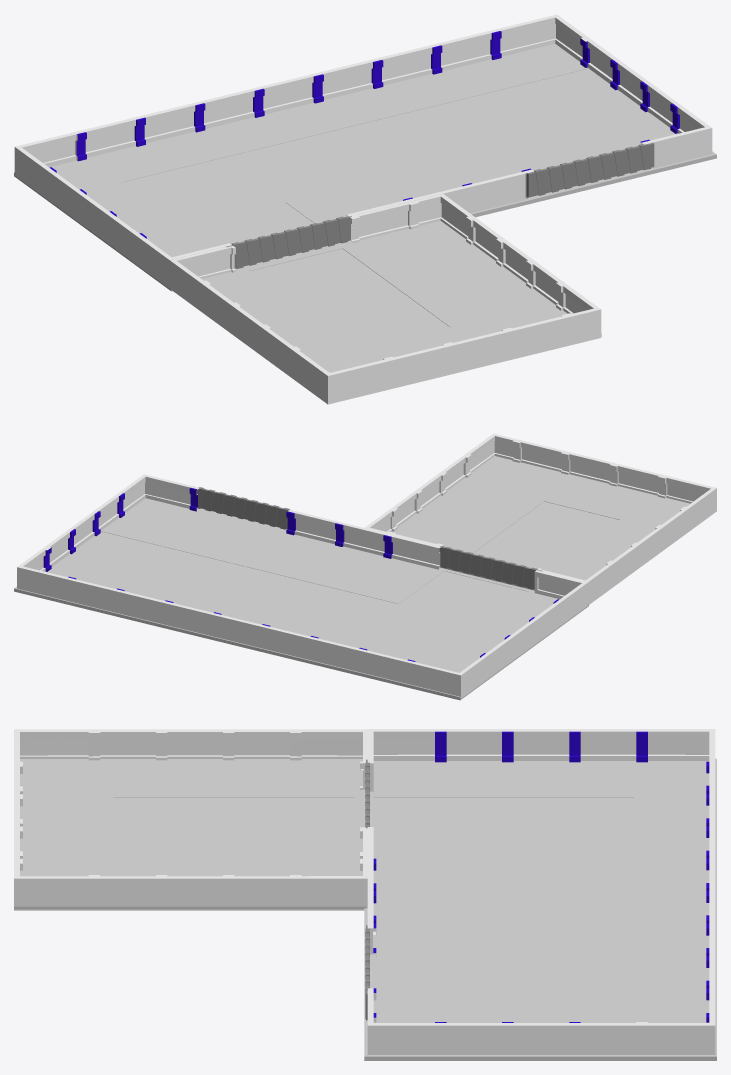
The model's file is Lagerhallen.FBX.
3 renders of one model, top to bottom at view 1: azimuth 30°, elevation 25°; view 2: azimuth 150°, elevation 25°; view 3: azimuth 270°, elevation 25°, orthographic. The views are drawn at different scales.
Visible parts, largest first — view 1: Box187, Box129, Box088, Box090, Box095, Box113; view 2: Box187, Box088, Box129, Box090, Box113, Box095; view 3: Box187, Box129, Box088, Box090.
Boxes of the visible parts, x1=… form: Box187: x1=14, y1=44, x2=716, y2=291; Box129: x1=202, y1=221, x2=601, y2=372; Box088: x1=14, y1=14, x2=712, y2=288; Box090: x1=170, y1=194, x2=601, y2=404; Box095: x1=527, y1=142, x2=654, y2=197; Box113: x1=226, y1=216, x2=351, y2=268; Box187: x1=14, y1=498, x2=588, y2=700; Box088: x1=17, y1=474, x2=587, y2=698; Box129: x1=391, y1=456, x2=689, y2=590; Box090: x1=365, y1=433, x2=716, y2=604; Box113: x1=439, y1=546, x2=542, y2=589; Box095: x1=197, y1=487, x2=289, y2=529; Box187: x1=364, y1=758, x2=716, y2=1060; Box129: x1=14, y1=759, x2=366, y2=909; Box088: x1=367, y1=729, x2=715, y2=1054; Box090: x1=14, y1=729, x2=367, y2=910.
Bounding box in the file's own units: 60.01 × 3.23 × 59.8.
